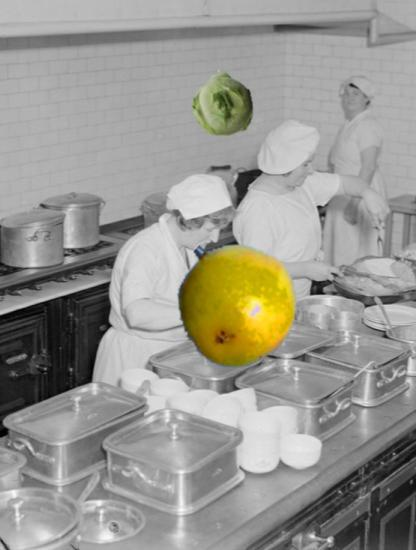Kohlrabi: (189, 71, 256, 138)
Maracuja: (170, 239, 298, 367)
